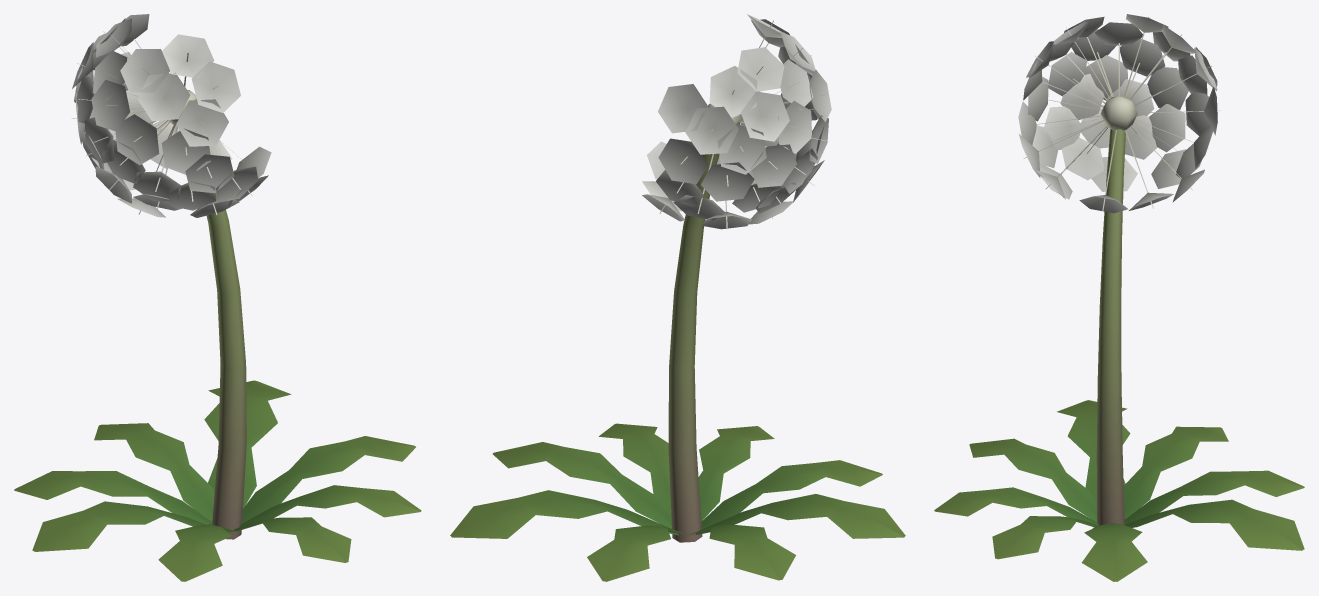
The model's file is dandelion_half.glb.
3 views of the same model, side by side, from view 1: azimuth 30°, elevation 25°; view 2: azimuth 150°, elevation 25°; view 3: azimuth 270°, elevation 25° (orthographic). The views are drawn at different scales.
Parts seen in each view (by area): view 1: dandelion_half; view 2: dandelion_half; view 3: dandelion_half.
Boxes of the visible parts, box(x1,y1,x2,y2) form: dandelion_half: box(14, 14, 421, 581); dandelion_half: box(450, 14, 905, 581); dandelion_half: box(934, 14, 1304, 581).
Bounding box in the file's own units: 2.29 × 2.88 × 2.
